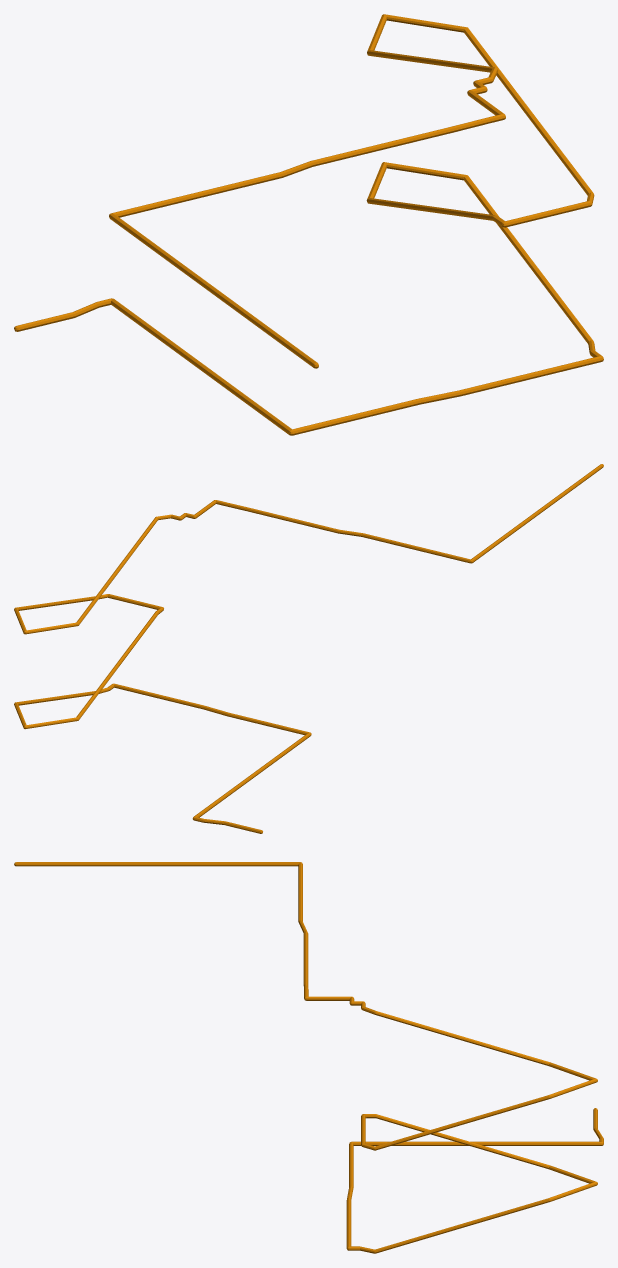
3 views of the same model, one above another, from view 1: azimuth 30°, elevation 25°; view 2: azimuth 150°, elevation 25°; view 3: azimuth 270°, elevation 25° (orthographic). The views are drawn at different scales.
Size of the model in its own units: 1905 by 1020 by 2593.
